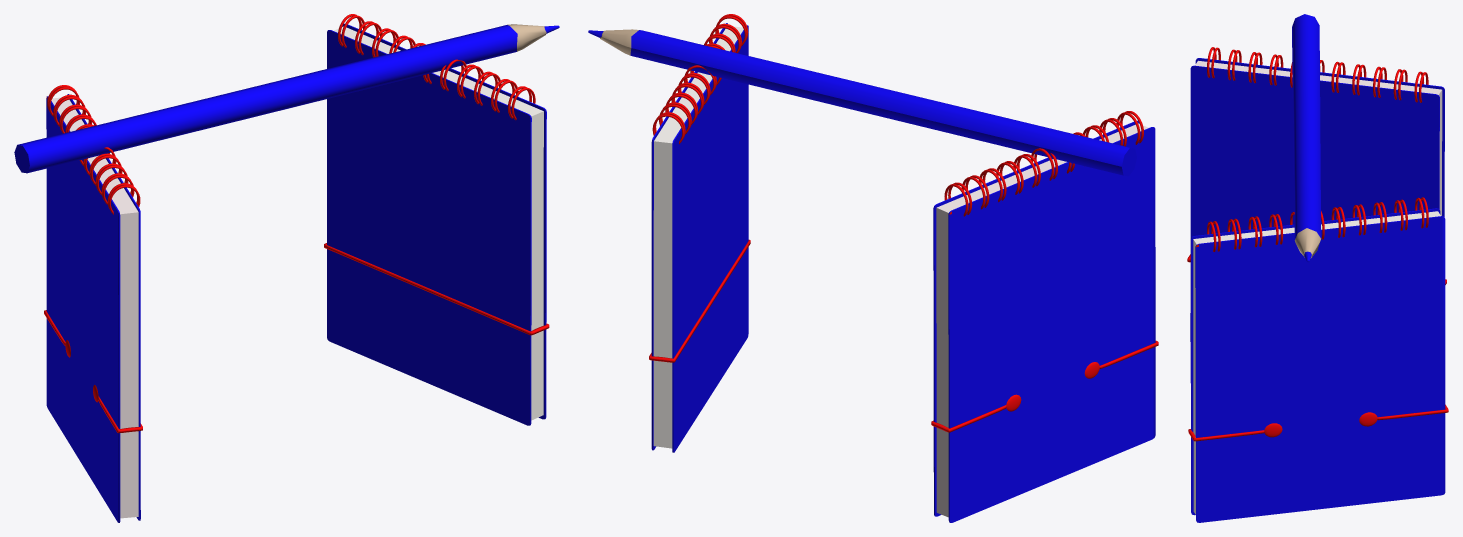
Rendered from 골대파랑.fbx.
3 views of the same model, side by side, from view 1: azimuth 30°, elevation 25°; view 2: azimuth 150°, elevation 25°; view 3: azimuth 270°, elevation 25° (orthographic). The views are drawn at different scales.
Parts seen in each view (by area): view 1: small_notepad, small_notepad.001, pencil_blue; view 2: small_notepad.001, small_notepad, pencil_blue; view 3: small_notepad, small_notepad.001, pencil_blue.
Part boxes in pixels (x1=…): small_notepad: x1=324, y1=14, x2=549, y2=425; small_notepad.001: x1=44, y1=85, x2=142, y2=522; pencil_blue: x1=14, y1=24, x2=559, y2=173; small_notepad.001: x1=931, y1=111, x2=1158, y2=522; small_notepad: x1=649, y1=14, x2=750, y2=452; pencil_blue: x1=588, y1=29, x2=1136, y2=176; small_notepad: x1=1188, y1=197, x2=1448, y2=522; small_notepad.001: x1=1187, y1=47, x2=1446, y2=341; pencil_blue: x1=1292, y1=14, x2=1321, y2=262.
Size of the model in its own units: 3319 by 2021 by 1557.
